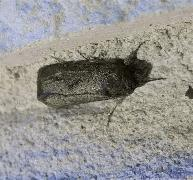army worm adult: (35, 35, 172, 114)
